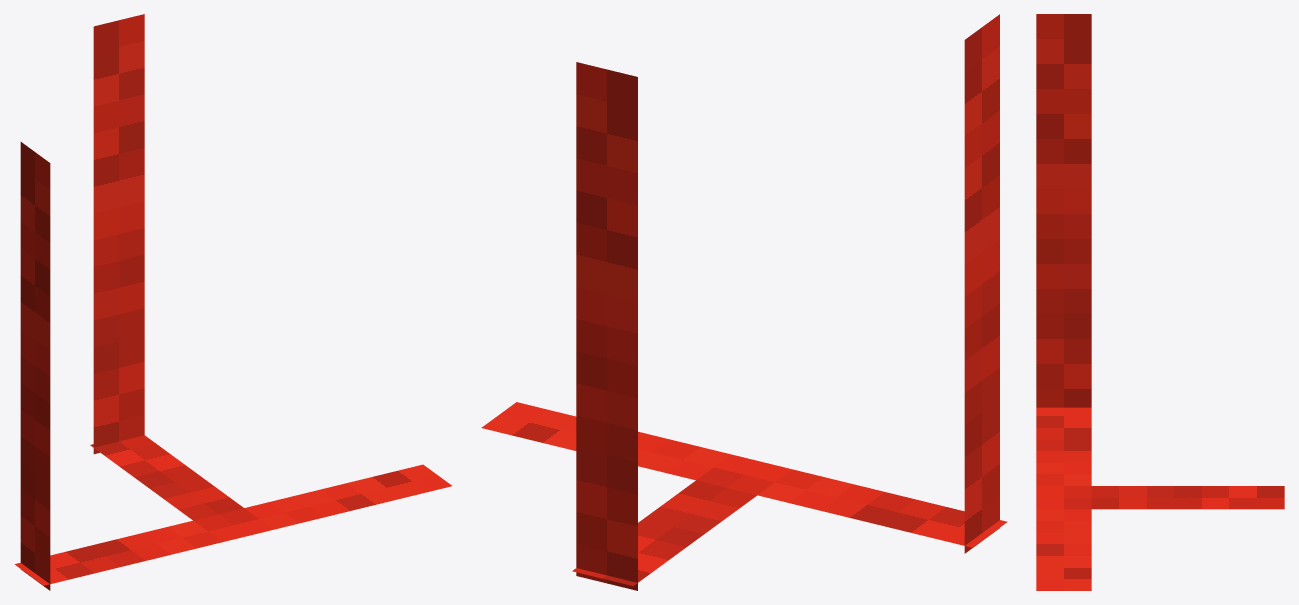
The model's file is dust_on_1202.gltf.
The picture shows the model from 3 angles, left to right: view 1: azimuth 30°, elevation 25°; view 2: azimuth 150°, elevation 25°; view 3: azimuth 270°, elevation 25°; orthographic projection. The views are drawn at different scales.
Visible parts, largest first — view 1: dust_on_1202; view 2: dust_on_1202; view 3: dust_on_1202.
Boxes of the visible parts, x1=… form: dust_on_1202: x1=14, y1=14, x2=451, y2=590; dust_on_1202: x1=481, y1=14, x2=1007, y2=590; dust_on_1202: x1=1036, y1=14, x2=1284, y2=590.
Bounding box in the file's own units: 1 × 1 × 0.5625.
1 material, 1 textured.
